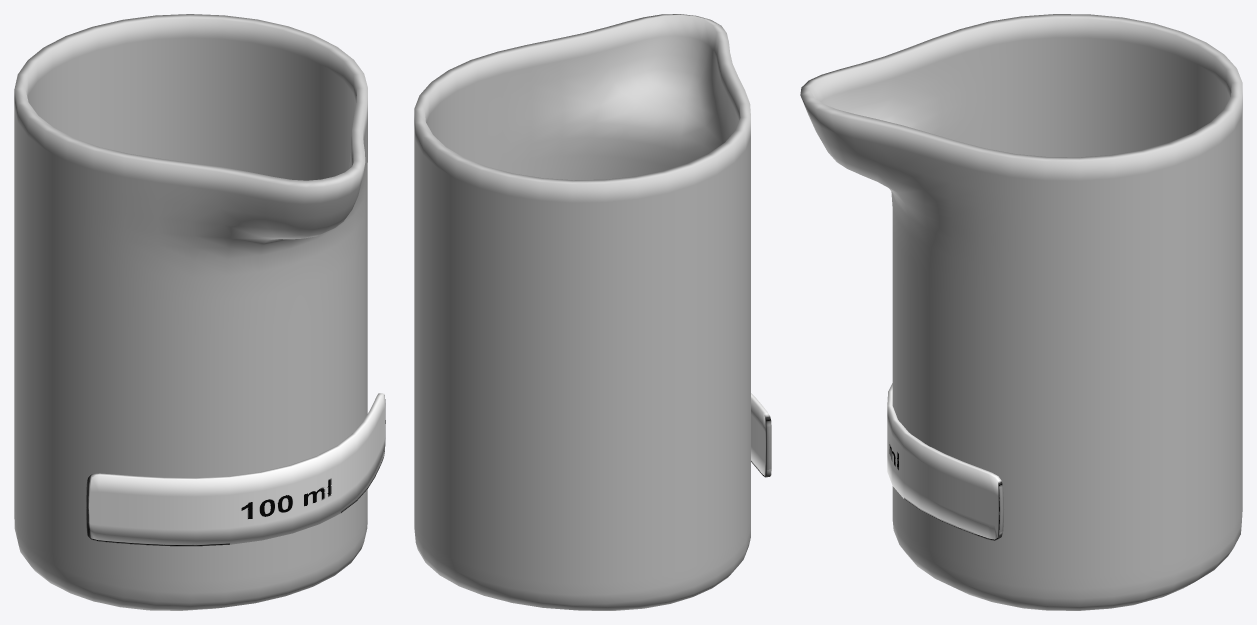
Rendered from Beaker glass 100ml.fbx.
3 renders of one model, left to right at view 1: azimuth 30°, elevation 25°; view 2: azimuth 150°, elevation 25°; view 3: azimuth 270°, elevation 25°, orthographic. The views are drawn at different scales.
Parts seen in each view (by area): view 1: Cube.066, Cube.101; view 2: Cube.066, Cube.101; view 3: Cube.066, Cube.101.
Part boxes in pixels (left/top/right/bottom): Cube.066: left=14, top=14, right=367, bottom=610; Cube.101: left=86, top=393, right=385, bottom=546; Cube.066: left=414, top=14, right=750, bottom=610; Cube.101: left=751, top=393, right=771, bottom=477; Cube.066: left=800, top=14, right=1242, bottom=610; Cube.101: left=887, top=383, right=1003, bottom=540.
Size of the model in its own units: 4.62 by 6.59 by 5.69.
2 materials, 1 textured.
